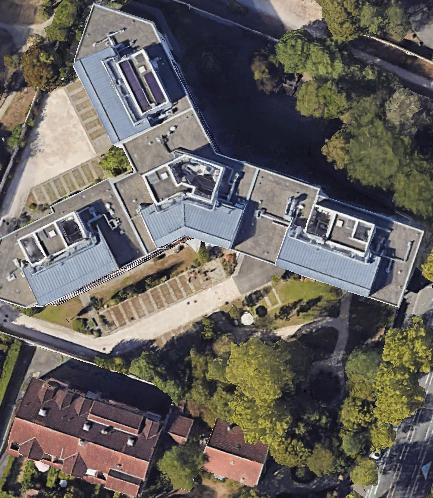immeuble: (134, 132, 428, 322), (0, 142, 252, 320), (53, 0, 215, 184)
maison: (4, 371, 167, 498), (198, 418, 273, 487)
